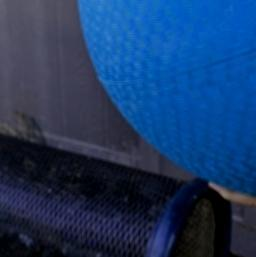algae: (74, 0, 256, 195)
